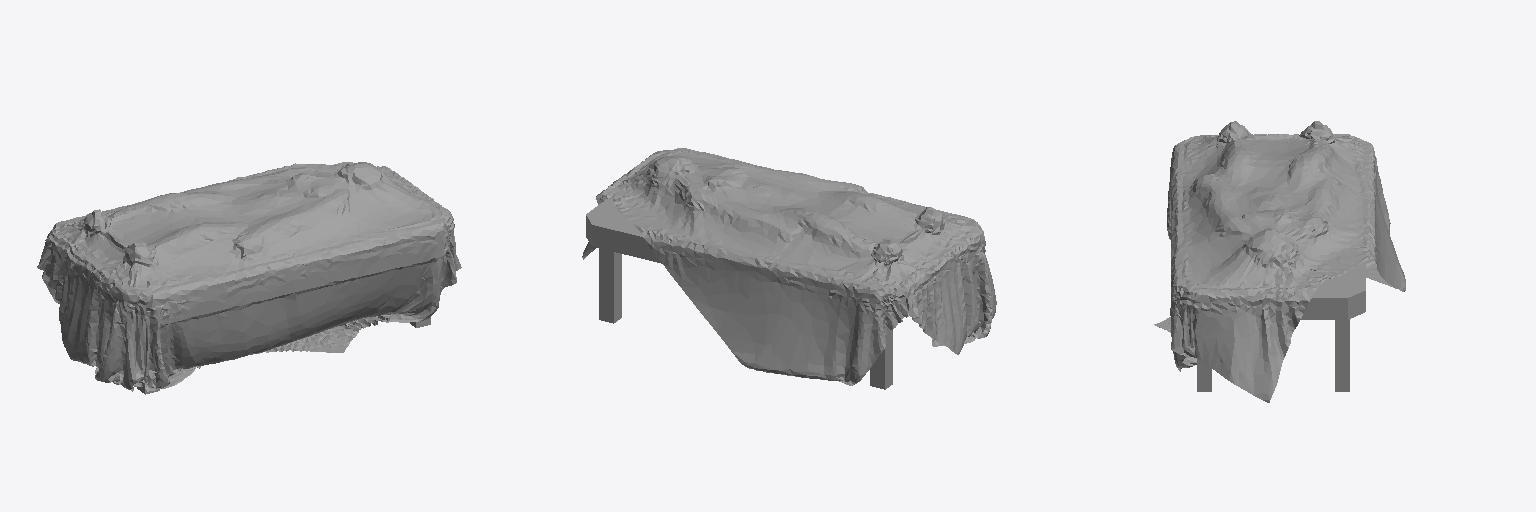
Rendered from F2_shroud.obj.
3 views of the same model, side by side, from view 1: azimuth 30°, elevation 25°; view 2: azimuth 150°, elevation 25°; view 3: azimuth 270°, elevation 25° (orthographic).
Visible parts, largest first — view 1: Low_Poly_Blanket.002_Plane.001; view 2: Low_Poly_Blanket.002_Plane.001; view 3: Low_Poly_Blanket.002_Plane.001.
Part boxes in pixels (bbox=[...]): Low_Poly_Blanket.002_Plane.001: bbox=[37, 162, 461, 394]; Low_Poly_Blanket.002_Plane.001: bbox=[582, 148, 996, 389]; Low_Poly_Blanket.002_Plane.001: bbox=[1154, 121, 1405, 402].
Bounding box in the file's own units: 1.02 × 0.3635 × 0.5879.